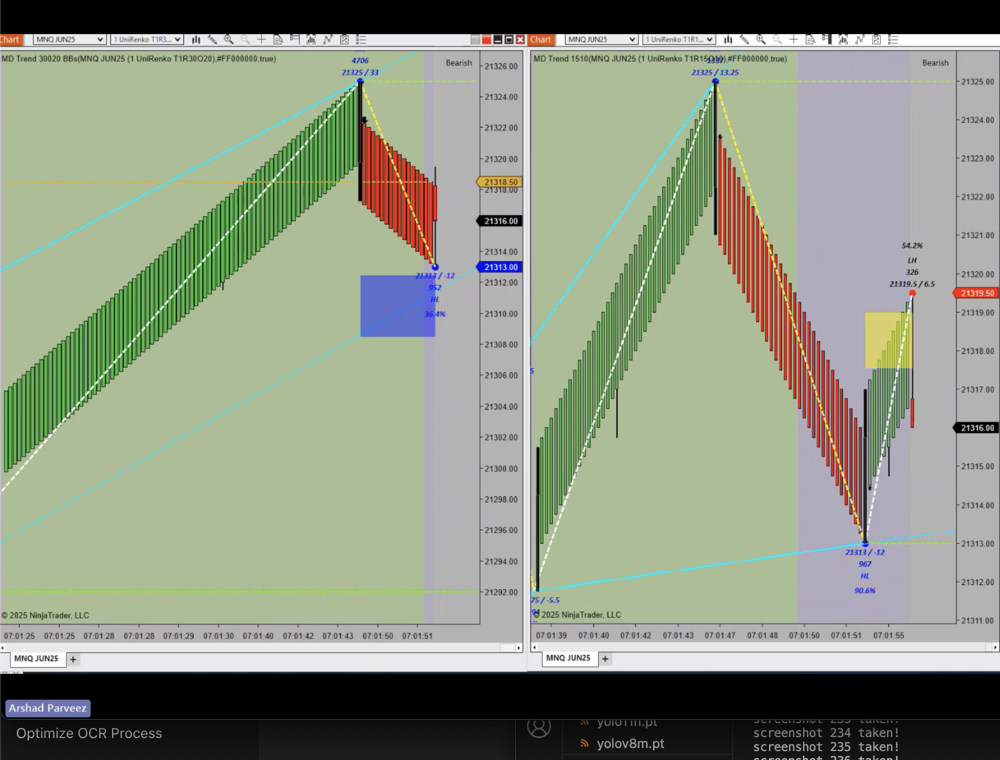HL: (854, 566, 881, 585), (426, 292, 449, 310)
LH: (902, 251, 928, 267)
